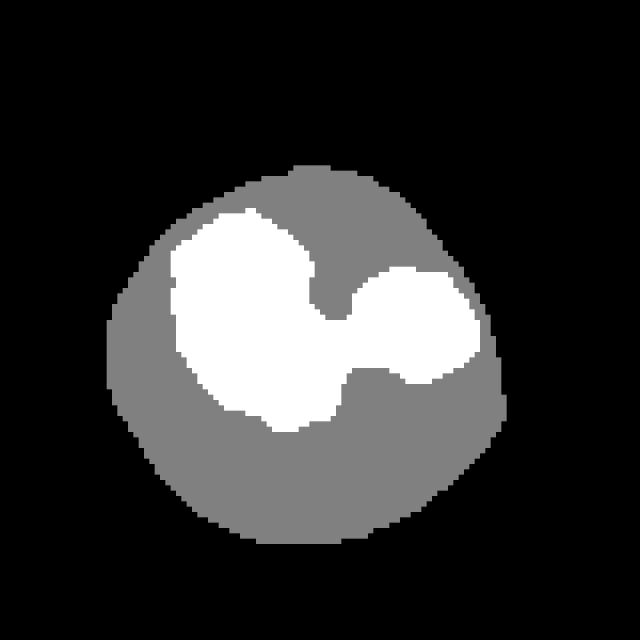WBC: (80, 144, 533, 565)
